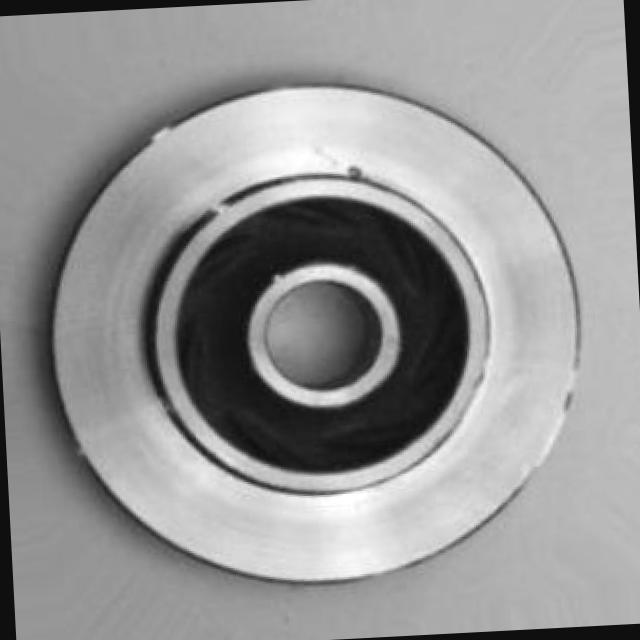Defect: (332, 157, 373, 191)
